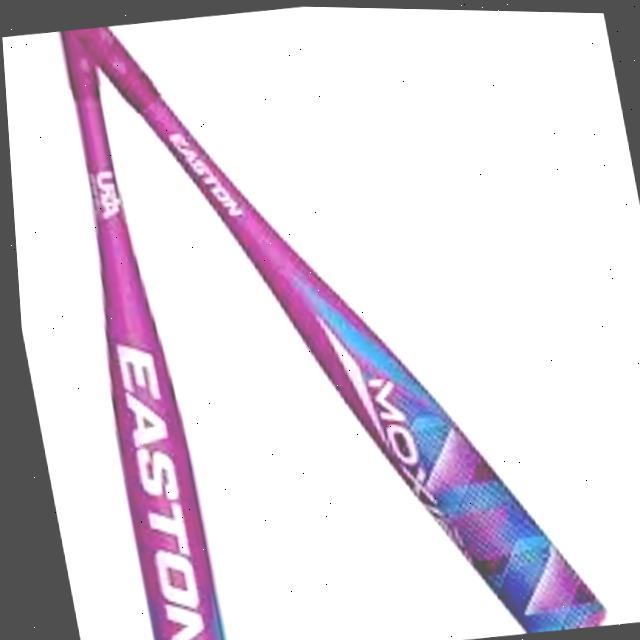baseball bat: (63, 26, 602, 631), (57, 27, 213, 640)
